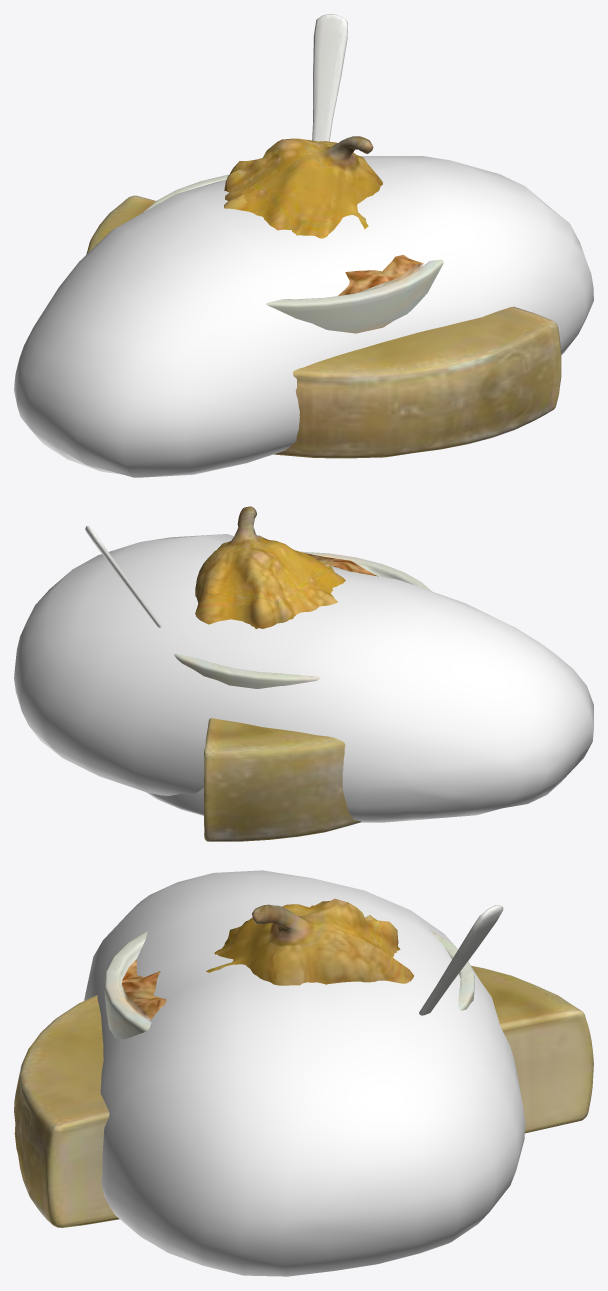
Rendered from food.glb.
3 renders of one model, top to bottom at view 1: azimuth 30°, elevation 25°; view 2: azimuth 150°, elevation 25°; view 3: azimuth 270°, elevation 25°, orthographic. The views are drawn at different scales.
Visible parts, largest first — view 1: Loaf of Bread, Half Cheese Wheel, Decorative Gourd, Bowl of Cereal; view 2: Loaf of Bread, Half Cheese Wheel, Decorative Gourd, Bowl of Cereal, Frosted Cake; view 3: Loaf of Bread, Half Cheese Wheel, Decorative Gourd, Bowl of Cereal.
Boxes of the visible parts, x1,y1,x2,y2 form: Loaf of Bread: (14, 156, 593, 477); Half Cheese Wheel: (86, 195, 561, 458); Decorative Gourd: (224, 136, 382, 238); Bowl of Cereal: (142, 14, 443, 333); Loaf of Bread: (14, 534, 593, 822); Half Cheese Wheel: (204, 718, 361, 841); Decorative Gourd: (195, 506, 345, 628); Bowl of Cereal: (85, 526, 431, 688); Frosted Cake: (146, 788, 203, 815); Loaf of Bread: (84, 870, 525, 1276); Half Cheese Wheel: (14, 965, 593, 1227); Decorative Gourd: (206, 898, 413, 985); Bowl of Cereal: (104, 905, 503, 1038).
Bounding box in the file's own units: 0.3008 × 0.1407 × 0.2378.
Materials: 14 (12 with a texture image).
